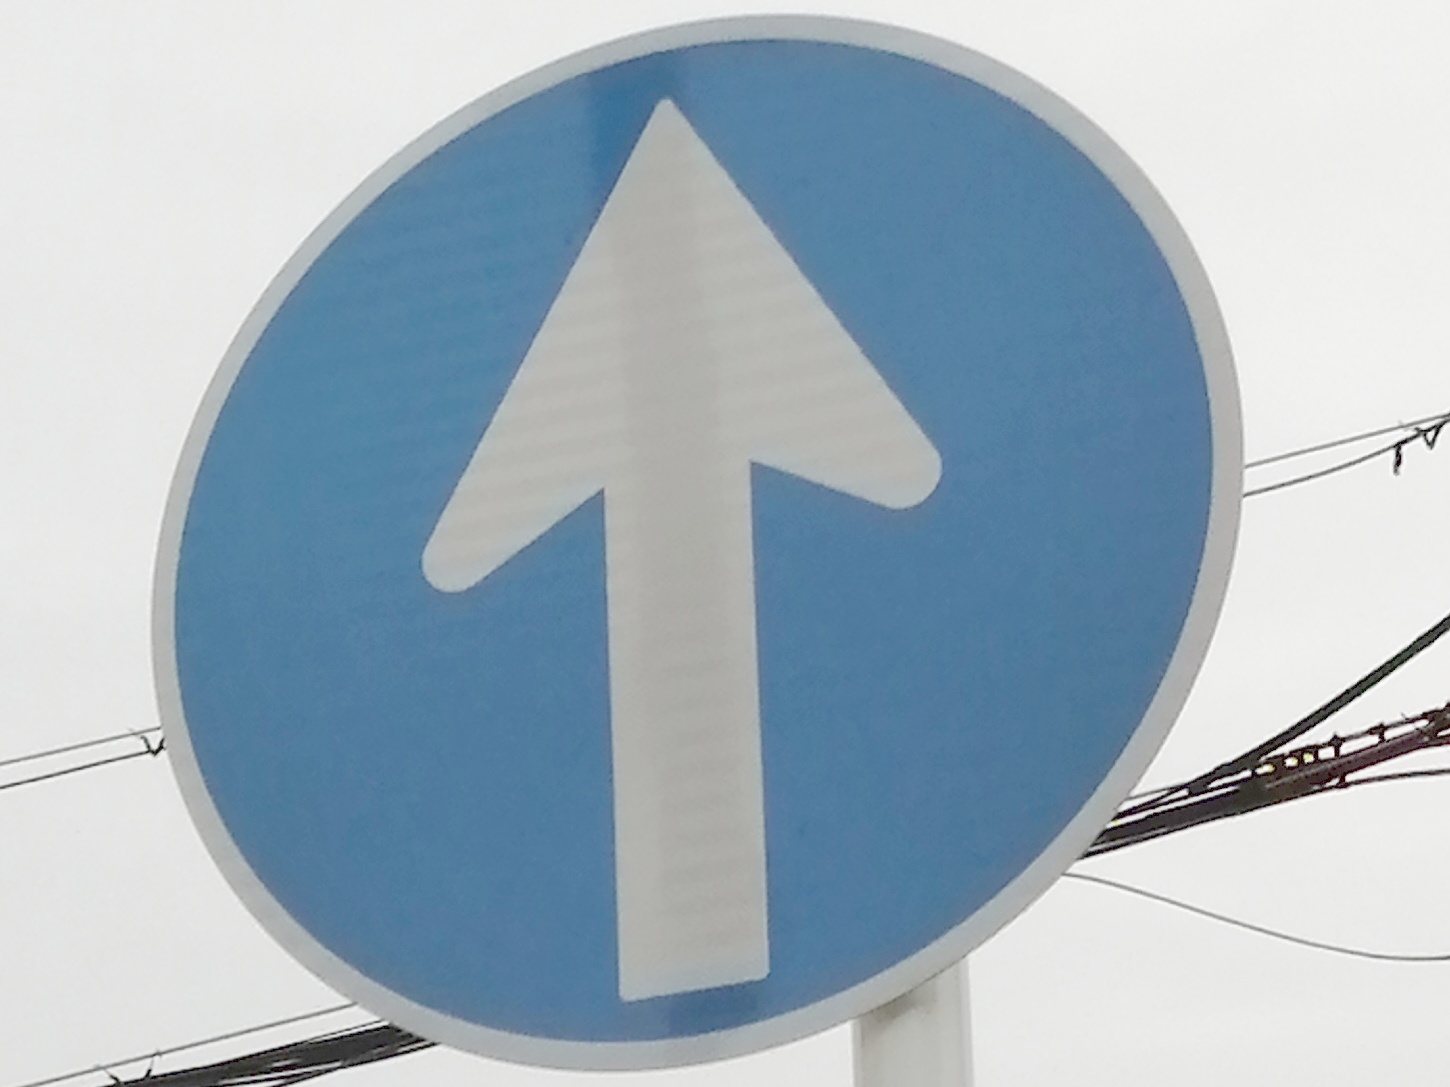Direction_sign: (61, 1, 1316, 1074)
